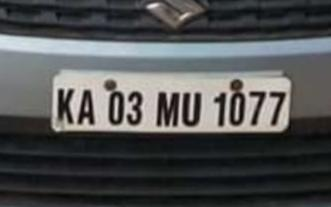0: (106, 88, 126, 128), (228, 88, 246, 128)
1: (212, 88, 226, 128)
3: (126, 89, 145, 131)
7: (246, 88, 266, 128), (269, 89, 287, 129)
A: (78, 87, 96, 127)
K: (55, 85, 76, 127)
M: (155, 87, 182, 131)
U: (181, 87, 203, 130)
